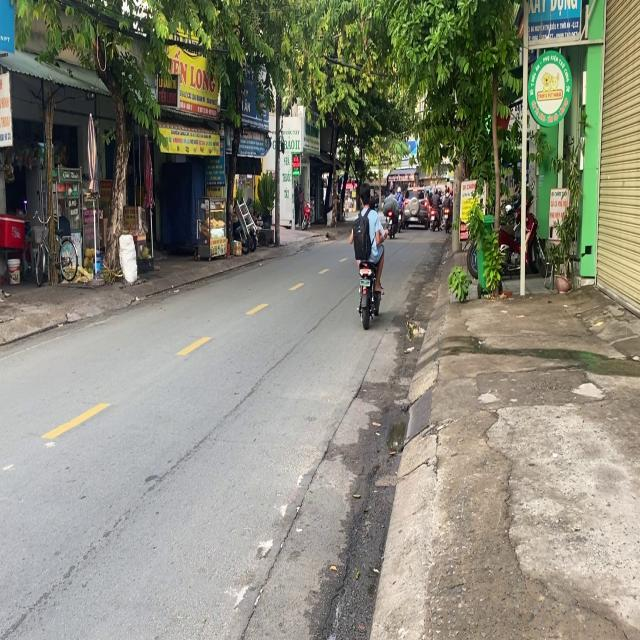licenseplate: (350, 180, 386, 326)
motorcyclist: (358, 182, 372, 207)
